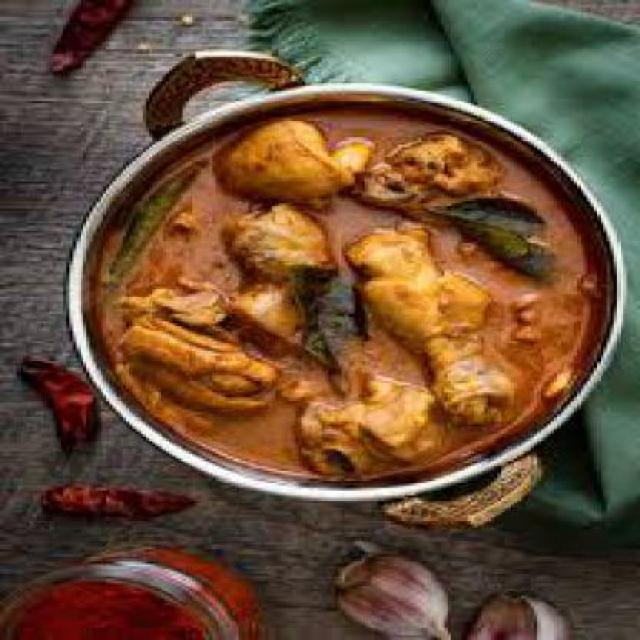CHICKEN CURRY: (91, 108, 611, 489)
